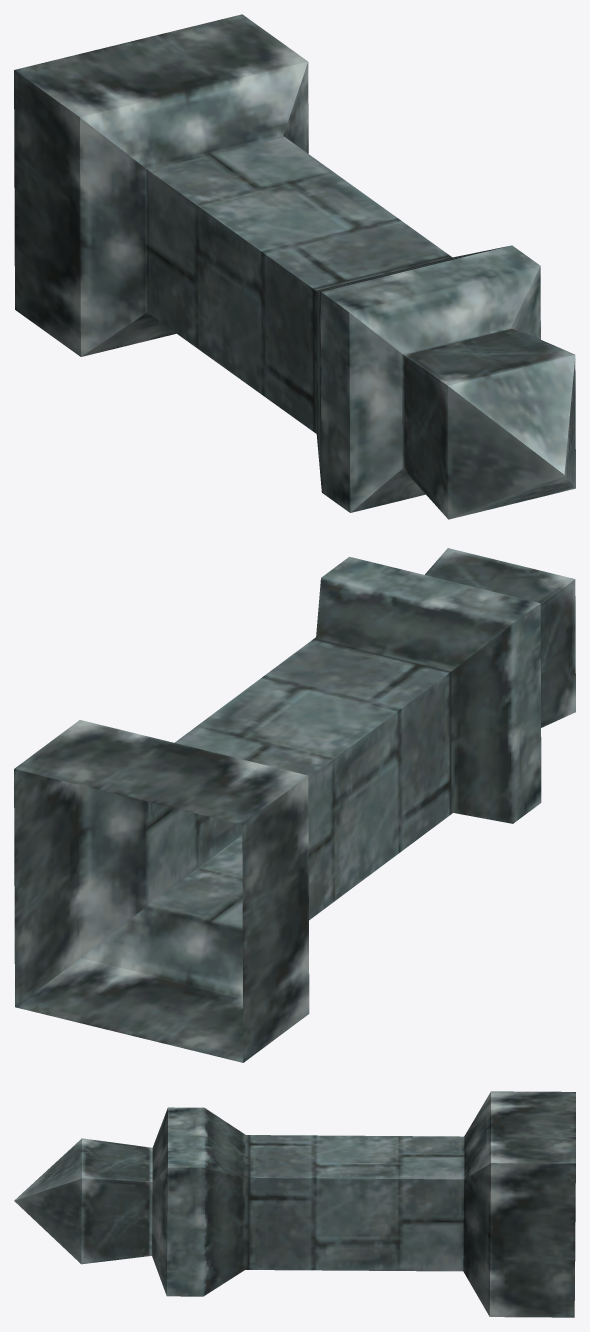
The model's file is zhongbu_fuben_219_weibian_01a.obj.
3 views of the same model, one above another, from view 1: azimuth 30°, elevation 25°; view 2: azimuth 150°, elevation 25°; view 3: azimuth 270°, elevation 25° (orthographic). The views are drawn at different scales.
Parts seen in each view (by area): view 1: zhongbu_fuben_219_weibian_01a; view 2: zhongbu_fuben_219_weibian_01a; view 3: zhongbu_fuben_219_weibian_01a.
Part boxes in pixels (x1,y1,x2,y2): zhongbu_fuben_219_weibian_01a: [14, 14, 575, 519]; zhongbu_fuben_219_weibian_01a: [14, 548, 575, 1062]; zhongbu_fuben_219_weibian_01a: [14, 1091, 575, 1317].
Bounding box in the file's own units: 20 × 20.08 × 66.17.
1 material, 1 textured.
